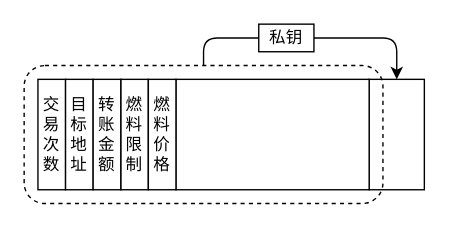
Image size: 449x228. Some labels were removed from this diagram. The shapes that lost their labels are listed below. From the top down, each one's centre as x and y in pixels, then its label:
At [272,134]: "合约 调用 数据".
At [396,134]: "数 字 签 名".
